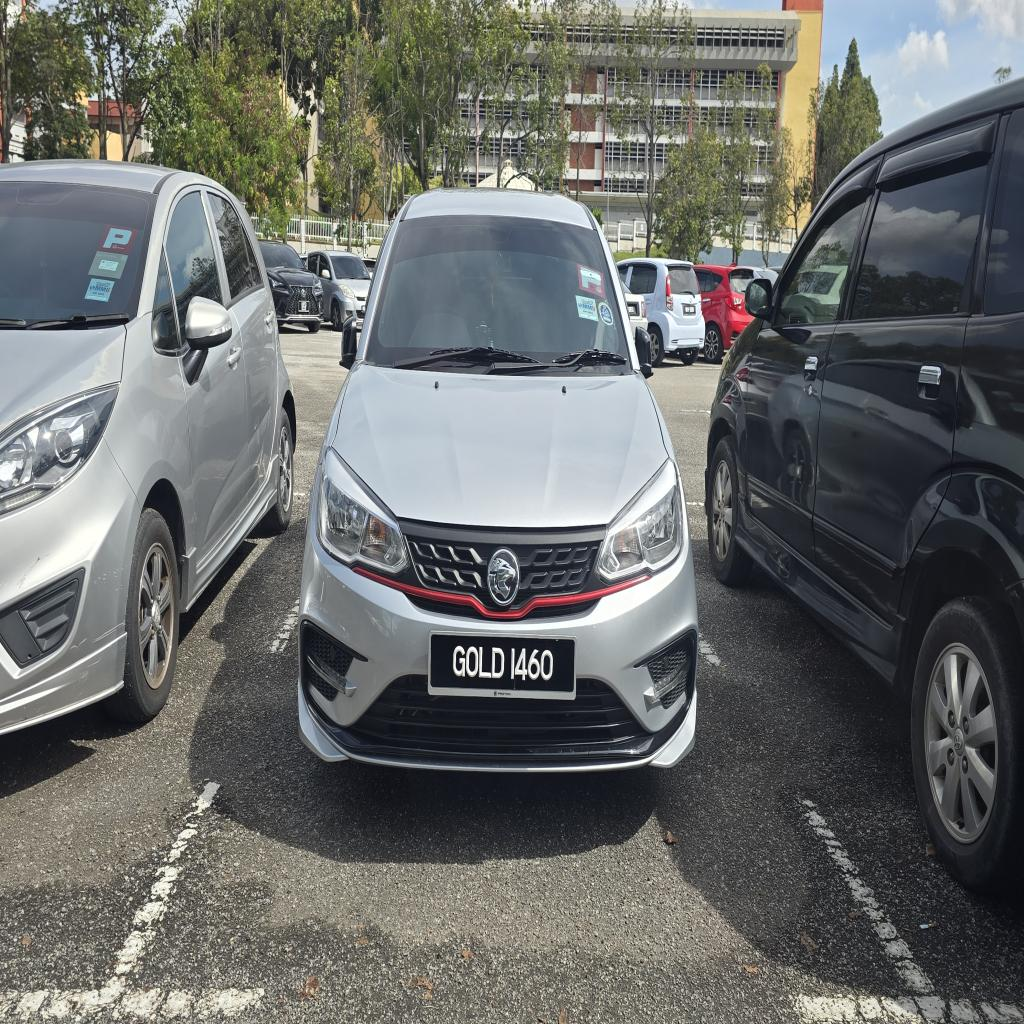car: (298, 190, 697, 771)
car plate: (428, 633, 575, 699)
